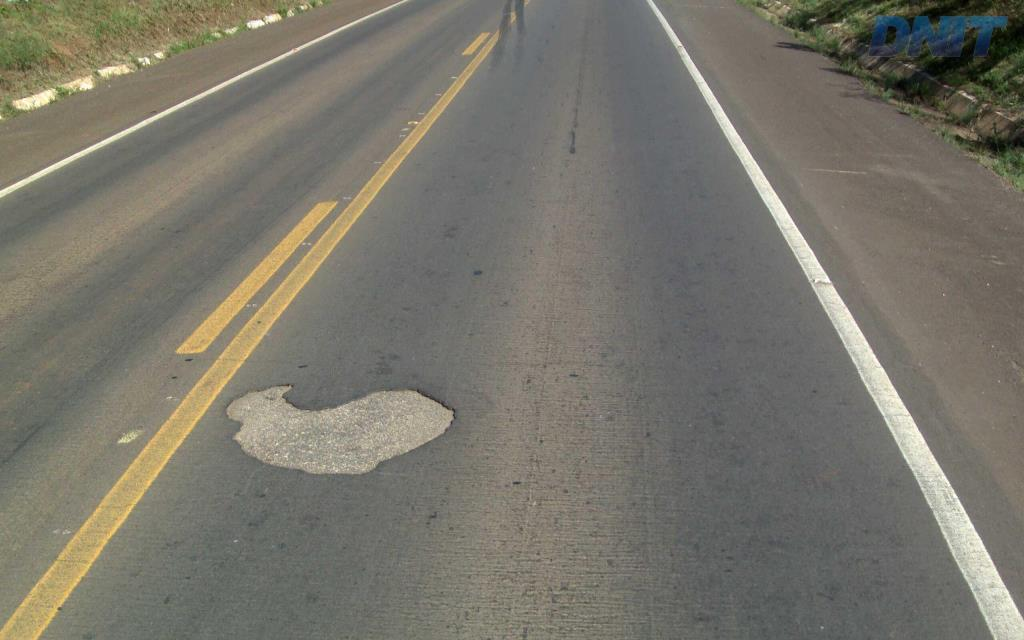pothole: (215, 375, 467, 489)
